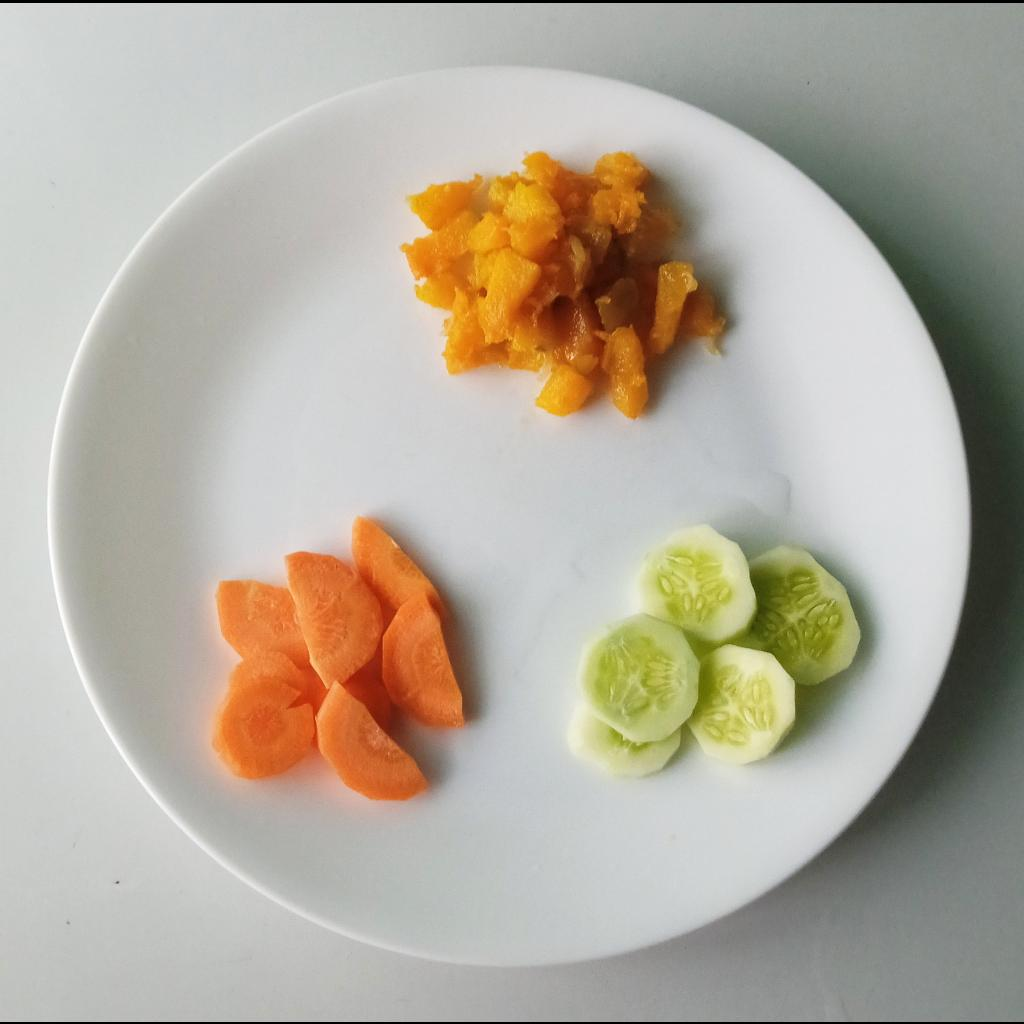carrot: (211, 512, 471, 805)
cucumber: (568, 521, 864, 780)
kumra-vaji: (398, 149, 727, 422)
